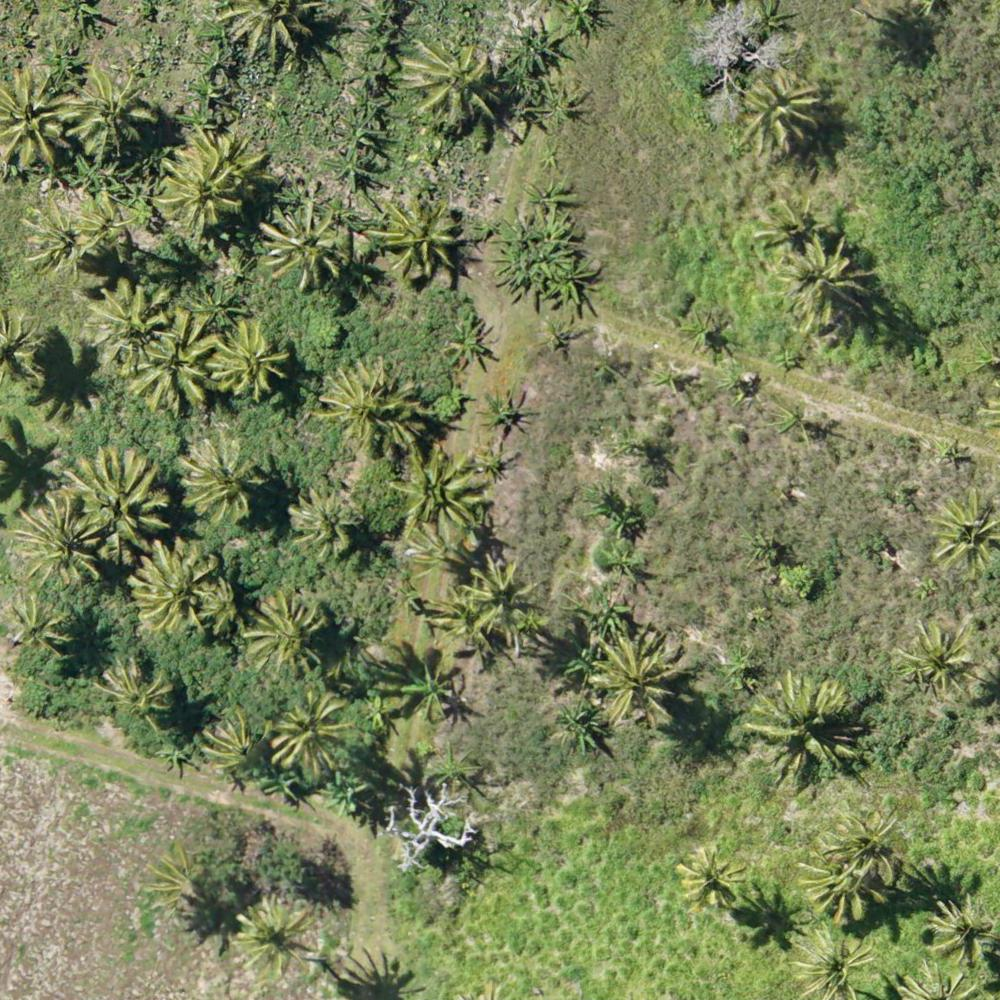Palm: (754, 676, 861, 777), (65, 447, 161, 555), (403, 33, 502, 127), (589, 629, 681, 728), (370, 186, 466, 278), (123, 317, 216, 409), (393, 445, 485, 535), (128, 547, 214, 640), (781, 235, 866, 328), (181, 435, 267, 523), (14, 498, 101, 584), (65, 62, 150, 149), (157, 144, 240, 231), (2, 64, 73, 165), (325, 362, 407, 447), (739, 68, 816, 154), (462, 559, 543, 638), (262, 204, 343, 282), (899, 619, 982, 695), (84, 282, 163, 361), (822, 816, 907, 884), (925, 489, 1000, 565), (792, 930, 875, 998), (798, 856, 880, 924), (249, 597, 323, 669), (271, 694, 342, 769), (923, 897, 993, 972), (238, 898, 308, 973), (209, 321, 286, 389), (289, 485, 357, 561), (101, 655, 171, 728), (24, 200, 98, 269), (675, 847, 741, 911), (203, 713, 267, 775), (74, 194, 136, 255), (11, 597, 70, 660), (192, 577, 243, 632)
